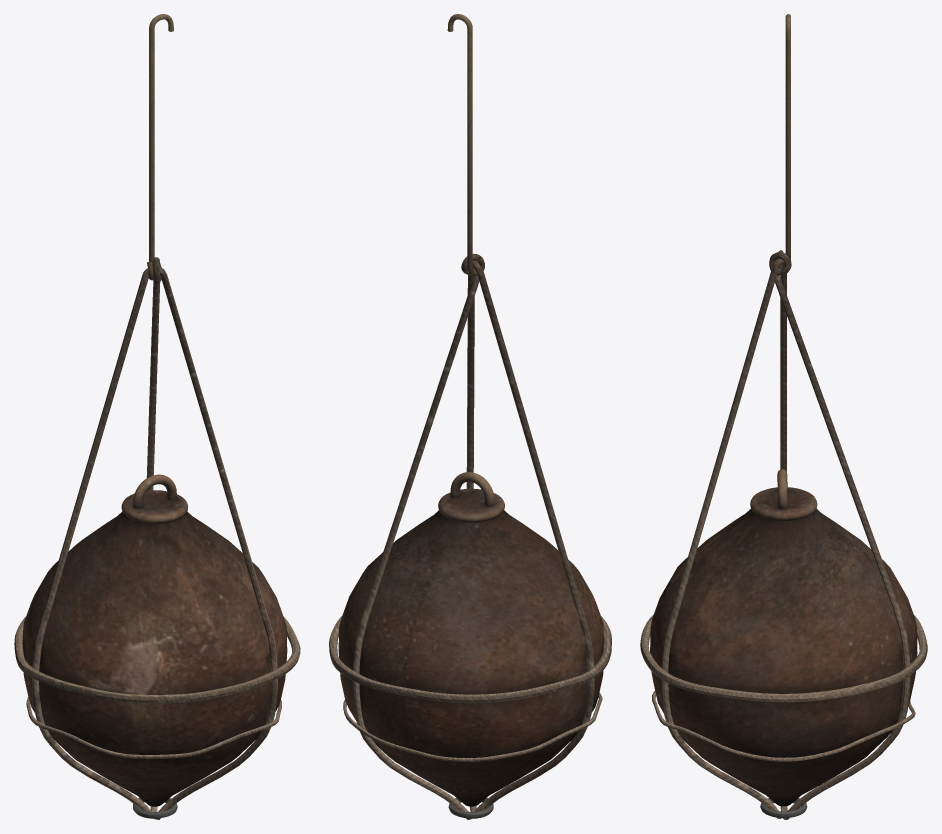
The model's file is xi_dsp_hanging_pot.gltf.
3 renders of one model, left to right at view 1: azimuth 30°, elevation 25°; view 2: azimuth 150°, elevation 25°; view 3: azimuth 270°, elevation 25°, orthographic.
Parts seen in each view (by area): view 1: xi_dsp_hanging_pot; view 2: xi_dsp_hanging_pot; view 3: xi_dsp_hanging_pot.
Part boxes in pixels (x1,y1,x2,y2): xi_dsp_hanging_pot: [14, 14, 300, 819]; xi_dsp_hanging_pot: [329, 14, 611, 819]; xi_dsp_hanging_pot: [640, 14, 927, 819].
Size of the model in its own units: 0.6392 by 1.96 by 0.6324.
1 material, 1 textured.
